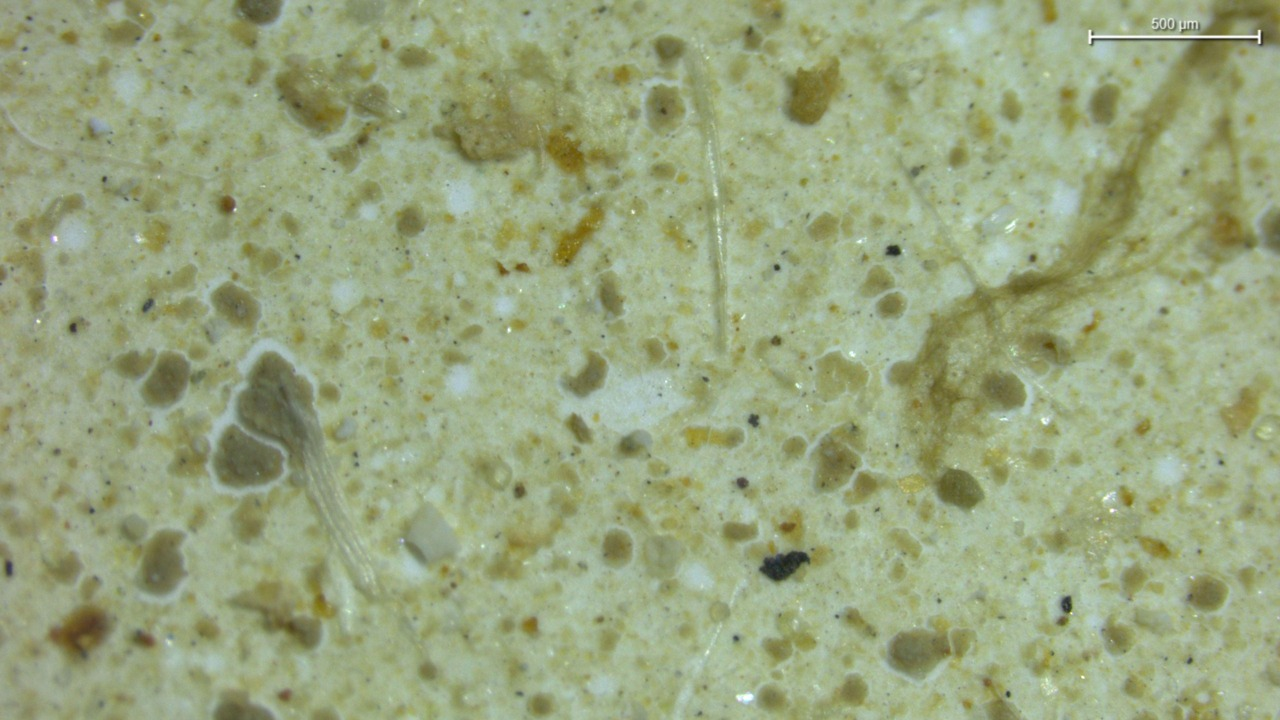microplastic_fragment: (404, 504, 458, 563)
